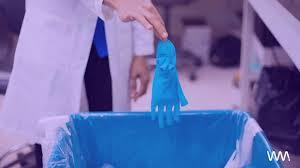Glove: (151, 40, 187, 126)
